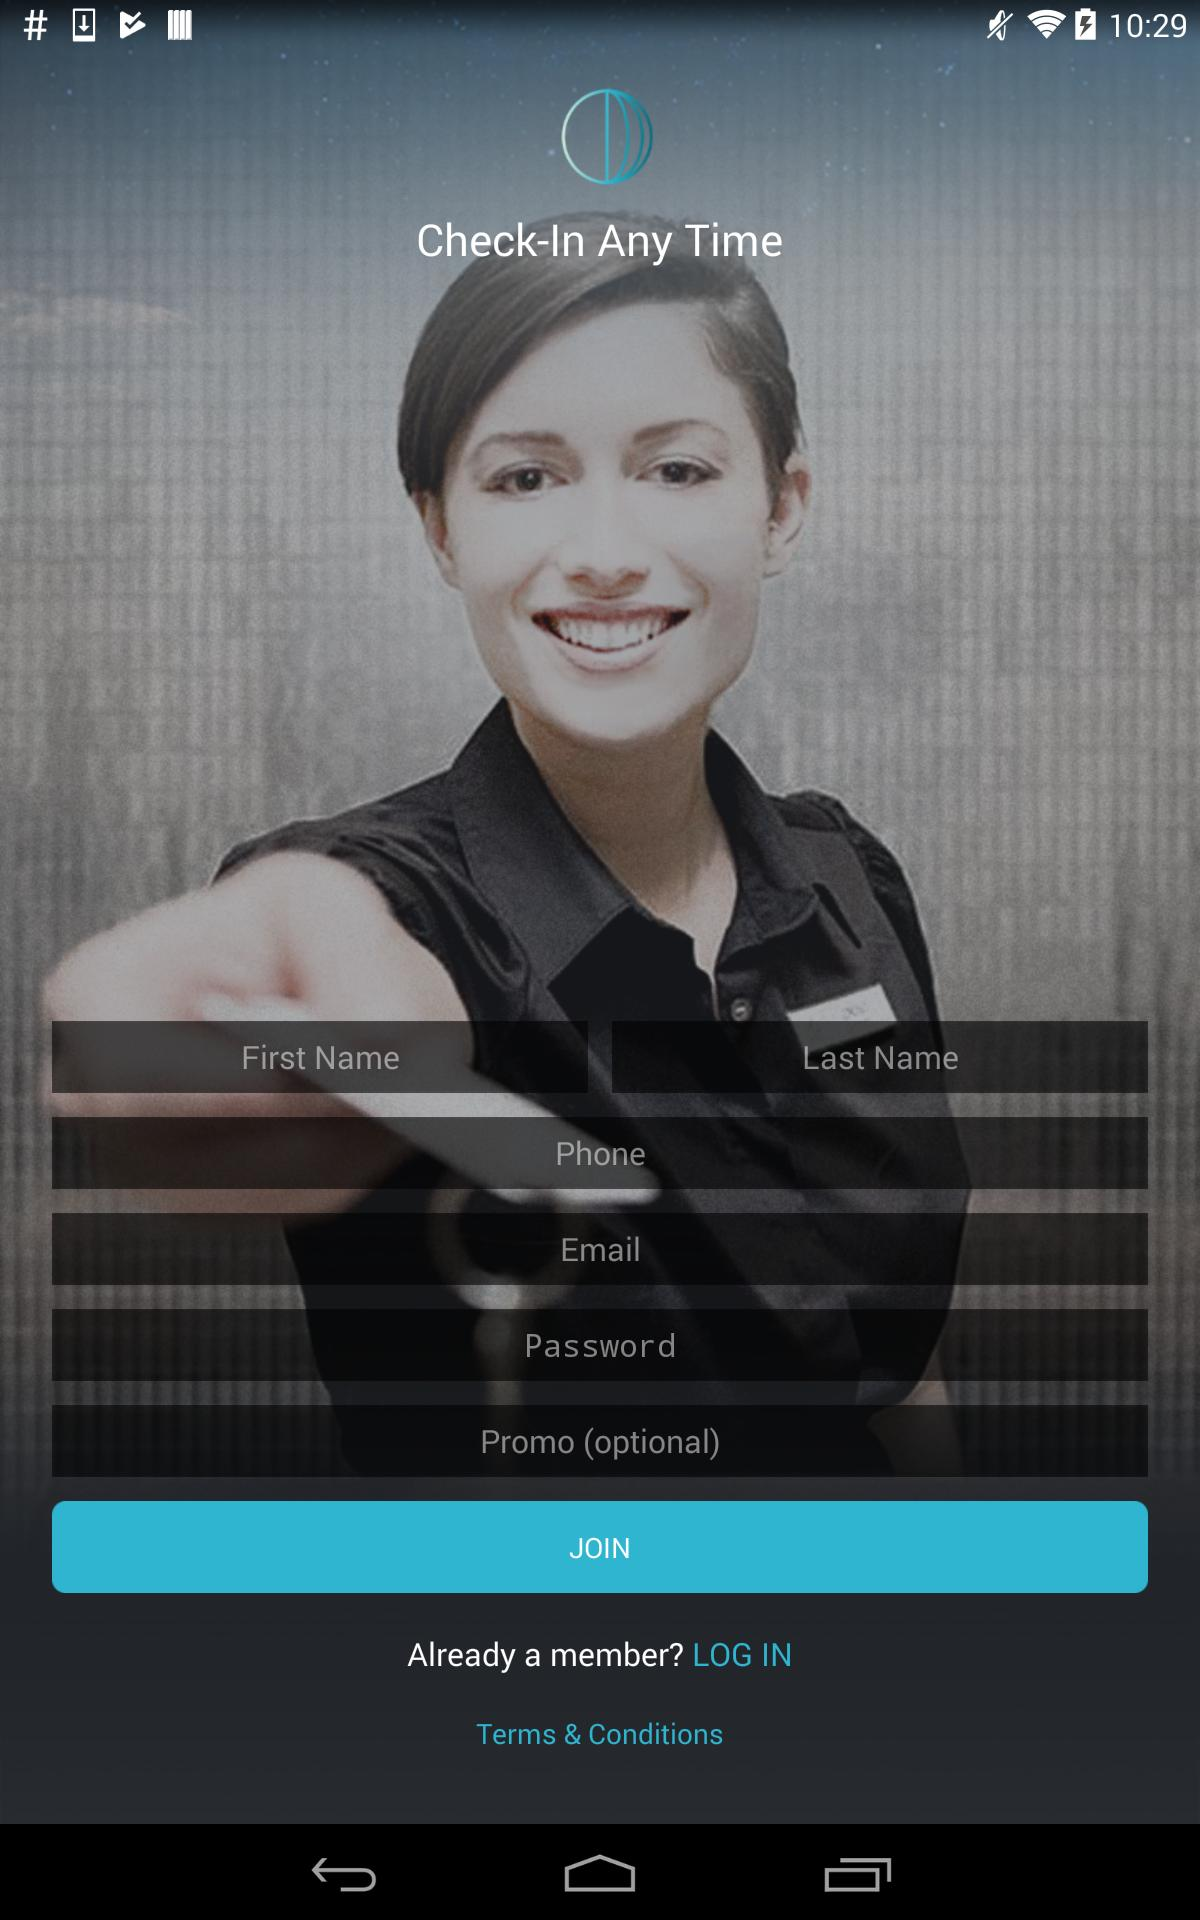android.widget.Button: (53, 1501, 1147, 1592)
android.widget.EditText: (53, 1404, 1147, 1478), (53, 1117, 1147, 1189), (53, 1214, 1147, 1286), (53, 1309, 1147, 1381), (53, 1022, 588, 1093), (612, 1022, 1147, 1093)
android.widget.FrameLayout: (0, 0, 1200, 1825)
android.widget.ImageView: (0, 0, 1200, 1825), (499, 80, 700, 194)
android.widget.LinearLayout: (0, 0, 1200, 1825), (0, 1009, 1200, 1751), (0, 1263, 1200, 1772), (0, 1263, 1200, 1417), (53, 1009, 1147, 1104), (416, 0, 782, 268), (406, 1632, 794, 1675)
android.widget.RelativeLayout: (0, 0, 1200, 1825), (0, 1263, 1200, 1772)
android.widget.TextView: (340, 1324, 859, 1378), (416, 209, 782, 268), (447, 1263, 753, 1320), (406, 1632, 684, 1675), (476, 1714, 724, 1751), (693, 1632, 794, 1675), (684, 1632, 693, 1675)
